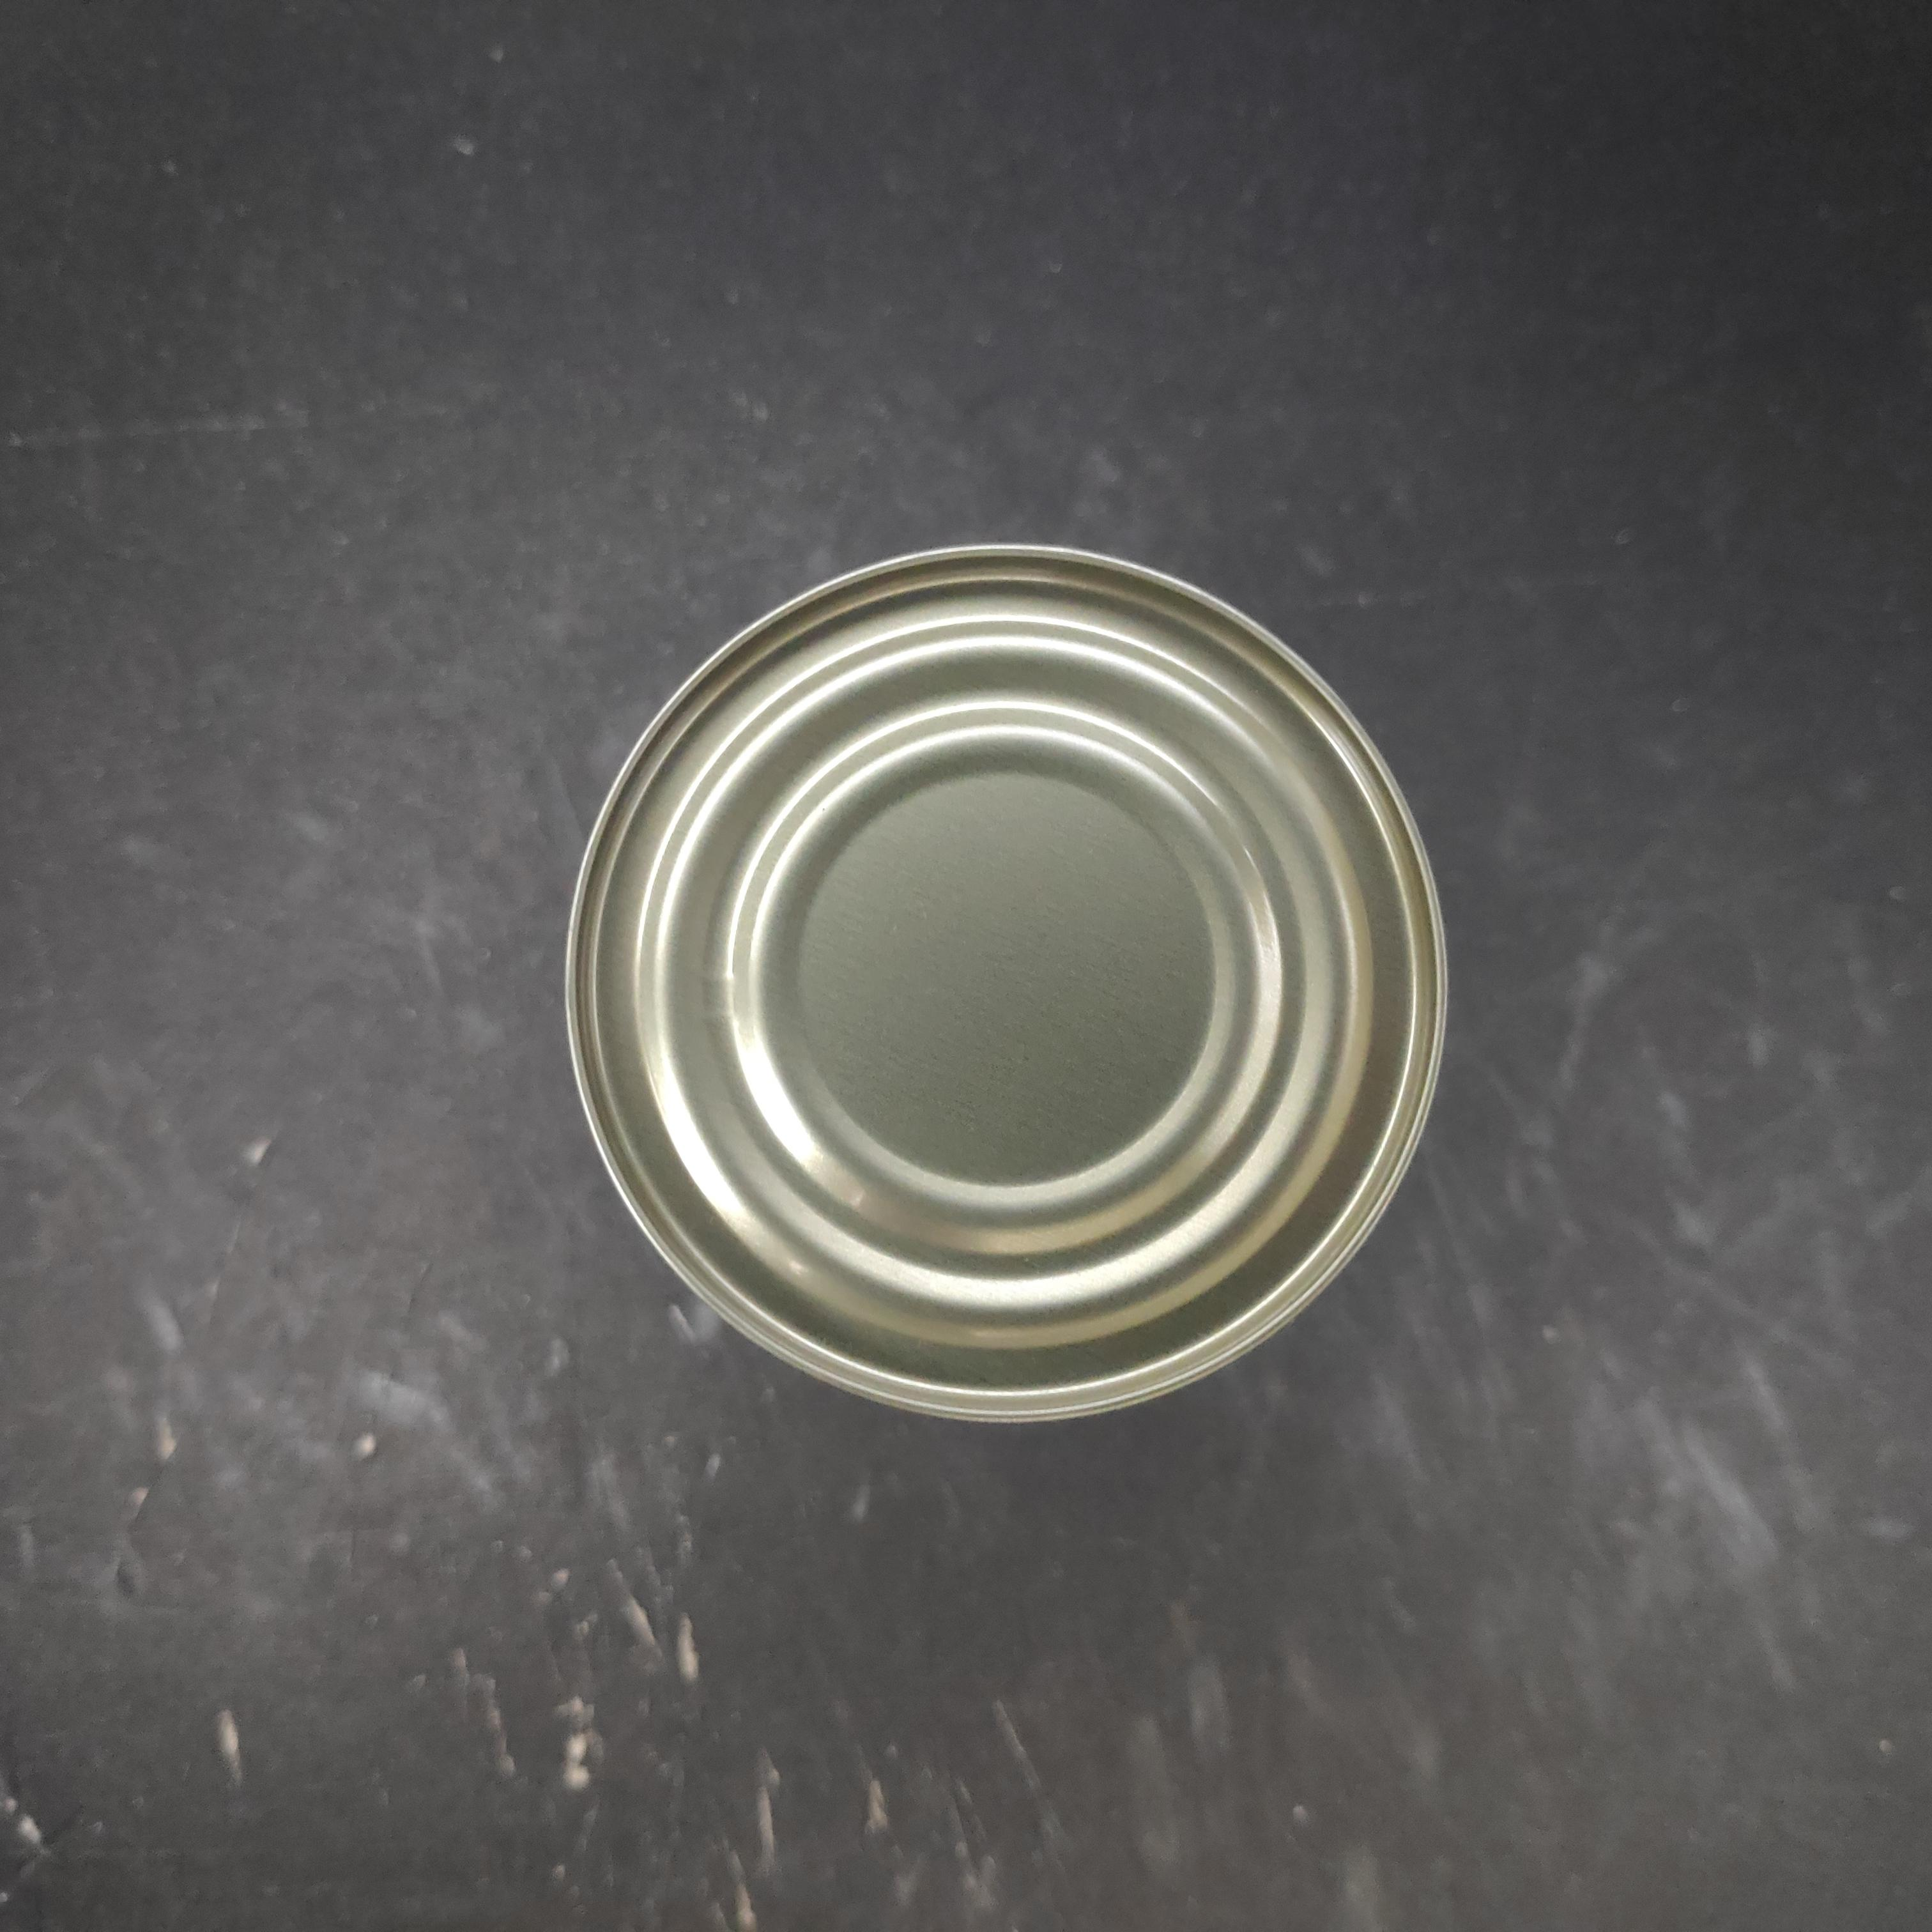No defect: (540, 481, 1430, 1371)
